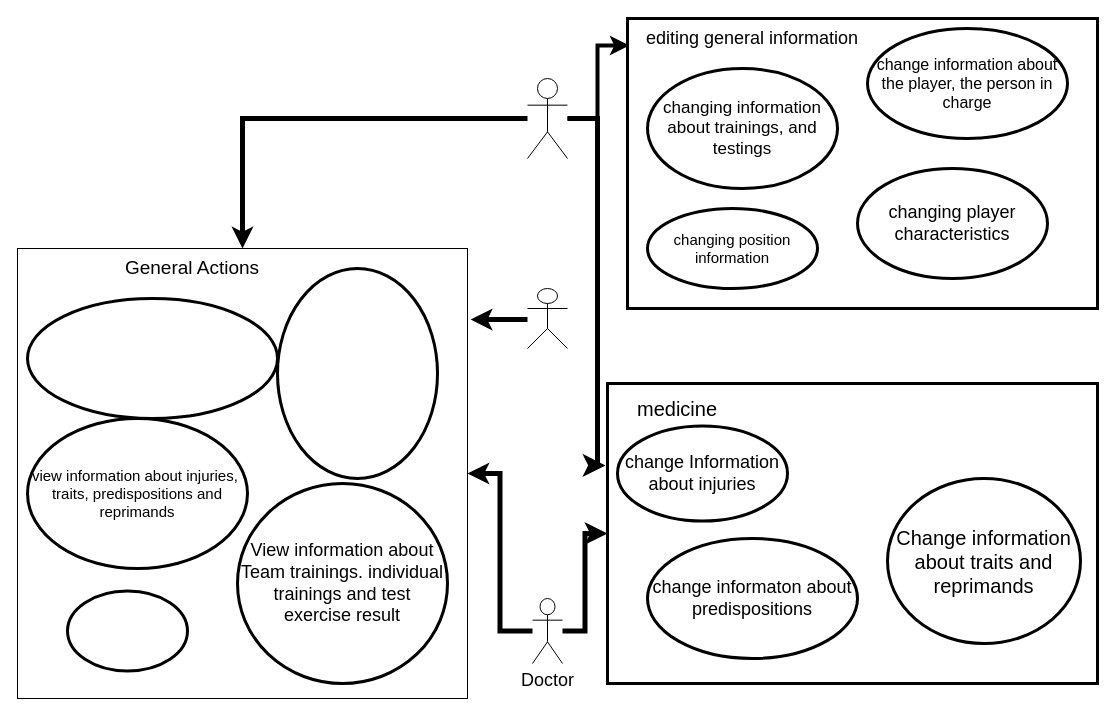
The diagram is 1116 pixels wide and 716 high, and some of its shapes have lost their labels. Each missing label, with the centre of its shape:
"Information about tournaments" goes at point (127, 630).
"Manager" goes at point (547, 118).
"Player" goes at point (547, 318).
"view information about Squad, Players, their Responsible People," goes at point (152, 358).
"View information aboutpositions, characteristics and their changes" goes at point (357, 373).
